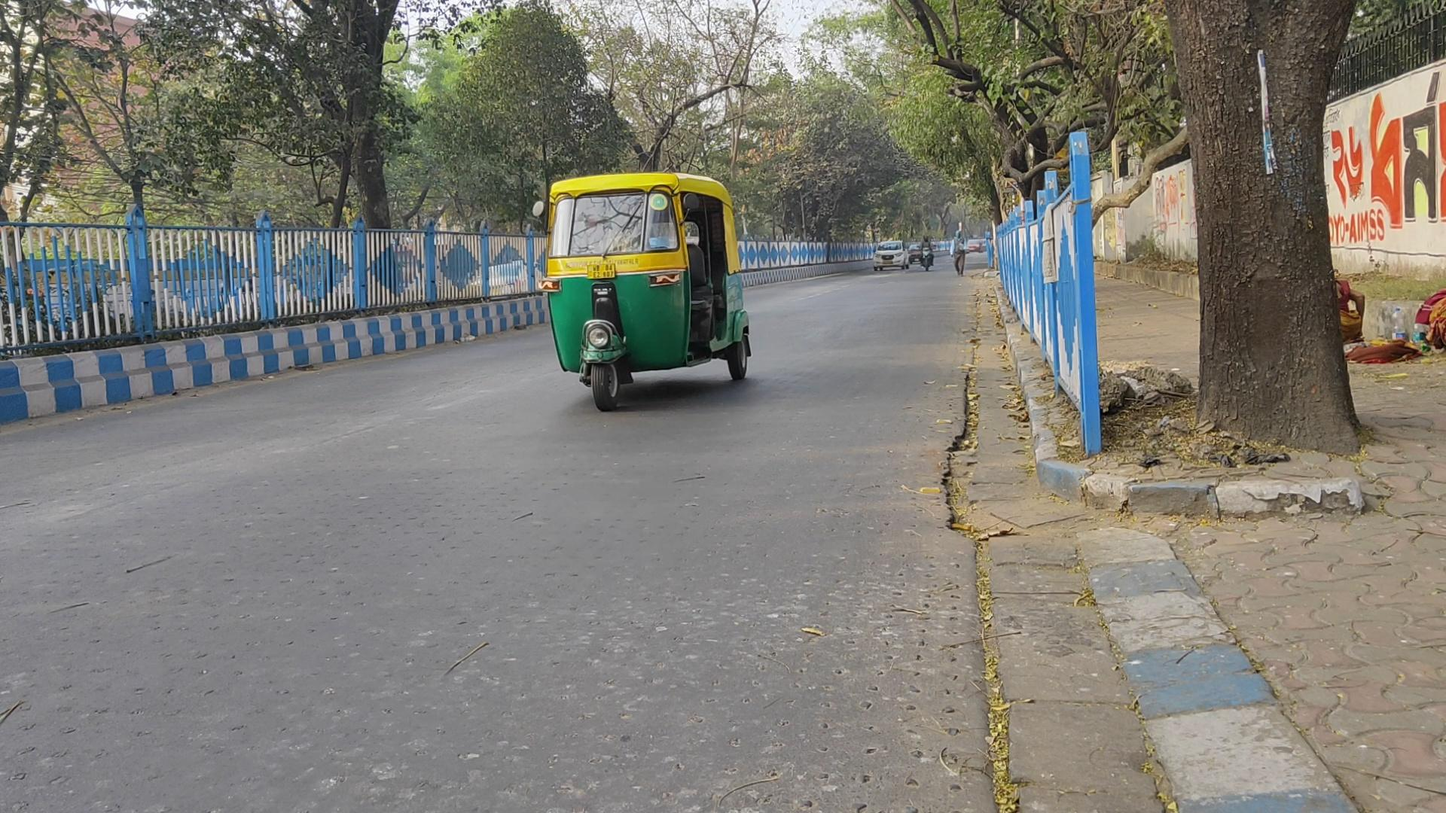Auto: (542, 171, 749, 410)
bike: (918, 234, 935, 272)
car: (873, 239, 908, 271)
